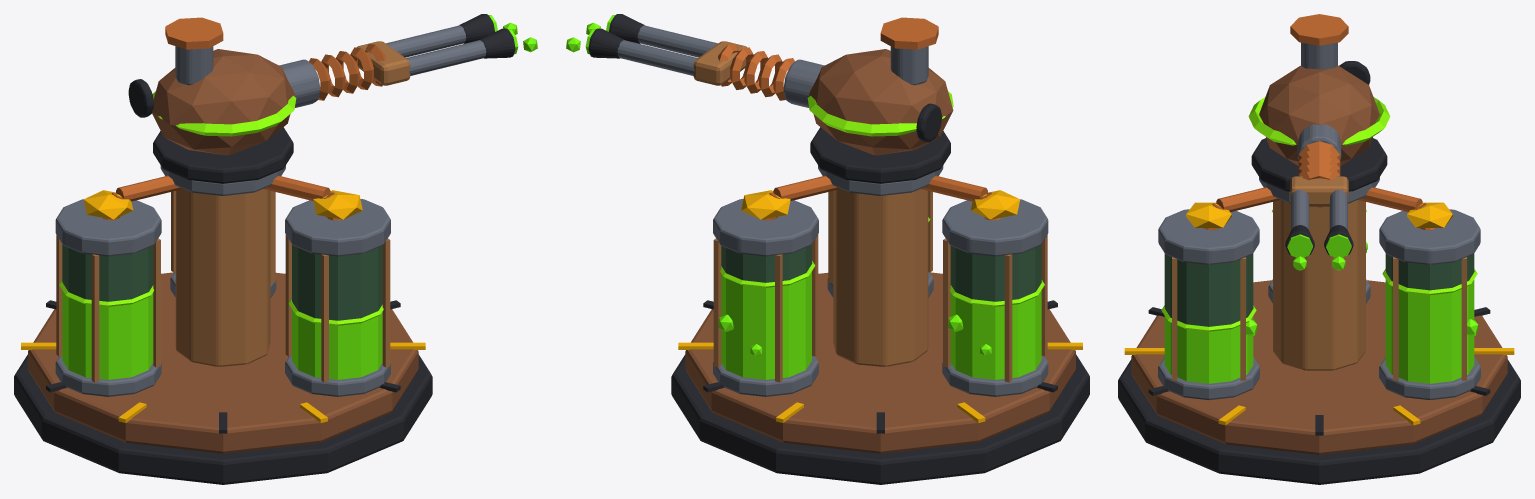
Rendered from torreta_acido.glb.
3 renders of one model, left to right at view 1: azimuth 30°, elevation 25°; view 2: azimuth 150°, elevation 25°; view 3: azimuth 270°, elevation 25°, orthographic. The views are drawn at different scales.
Visible parts, largest first — view 1: Base, Pivot, Barrel; view 2: Base, Pivot, Barrel; view 3: Base, Pivot, Barrel.
Boxes of the visible parts, bbox=[...] form: Base: bbox=[14, 165, 432, 484]; Pivot: bbox=[128, 17, 296, 183]; Barrel: bbox=[279, 14, 537, 107]; Base: bbox=[671, 165, 1089, 484]; Pivot: bbox=[807, 17, 953, 183]; Barrel: bbox=[566, 14, 824, 107]; Base: bbox=[1118, 177, 1520, 484]; Pivot: bbox=[1248, 14, 1390, 191]; Barrel: bbox=[1285, 124, 1353, 270].
Bounding box in the file's own units: 4.01 × 2.97 × 3.
1 material, 1 textured.
